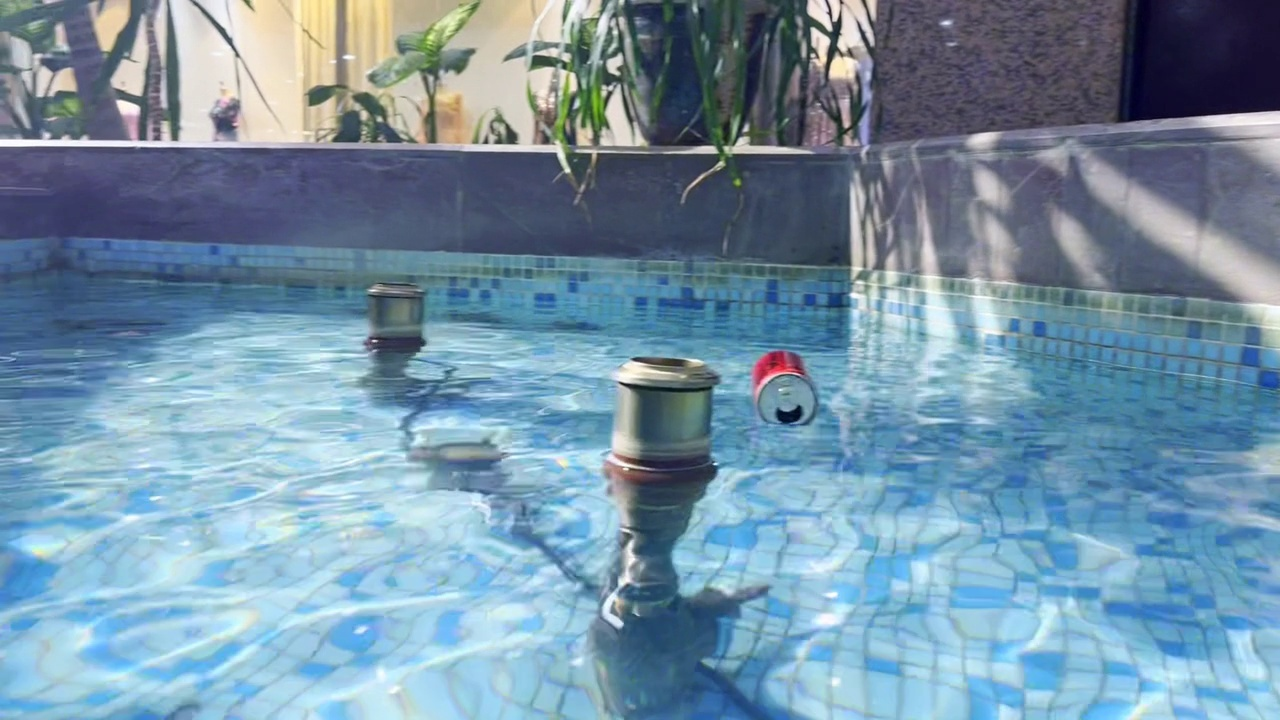debris: (745, 337, 823, 435)
